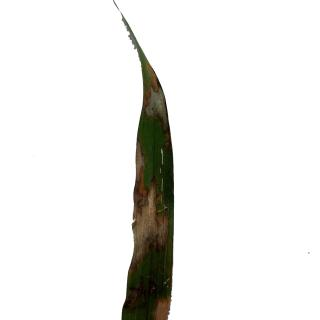Hawar-Daun: (136, 142, 171, 256), (139, 62, 170, 123), (147, 285, 174, 320)
